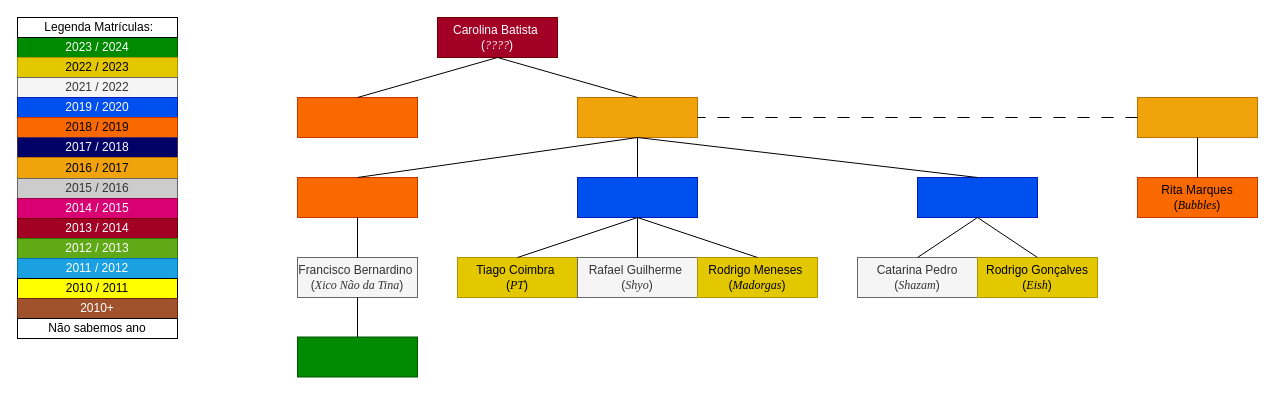
This 1275x395 diagram has some shape labels left out. Each missing label, with the centre of its shape:
Beatriz Santos ( Pesos & CO. ): (x=357, y=197)
Diogo Pedroso ( Calhau ): (x=977, y=197)
Gonçalo Eugênio ( Captião G ): (x=637, y=197)
Inês Durate ( Branca de Neve ): (x=1197, y=117)
João Silva ( ???? ): (x=357, y=356)
Miguel Estrela ( Zodiaco ): (x=357, y=117)
Pavlo Kyyanchenko ( Molotov ): (x=637, y=117)
